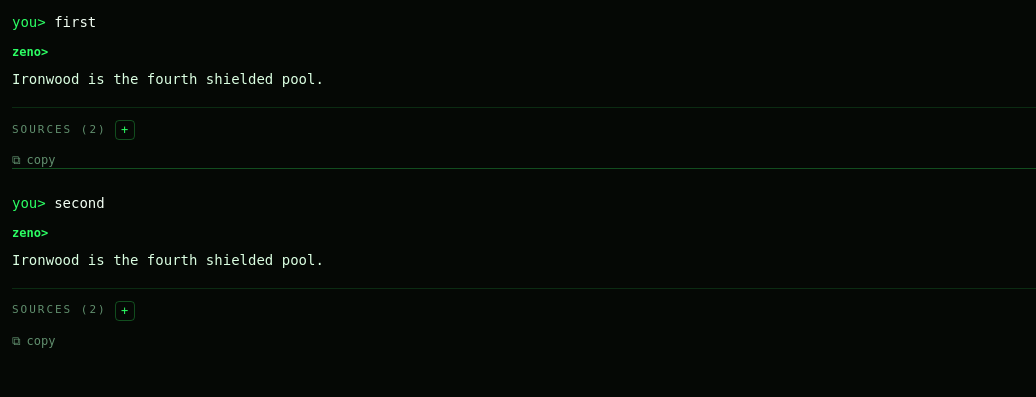
Scenario: AgentSources › keeps each turn's state its own
Step 1. Click the button "Sources (2) +" below "first" → x=73, y=130, box [12,120,135,140]
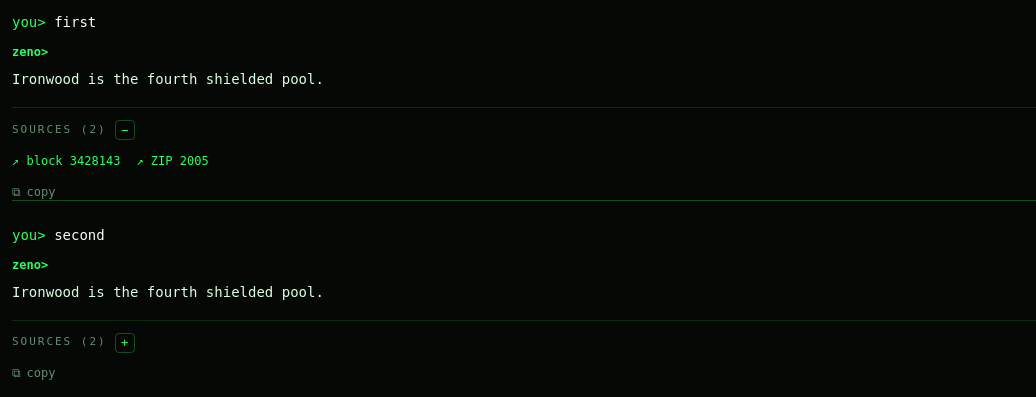
Expected: the button "Sources (2) −" is expanded, [12,120,135,140]
